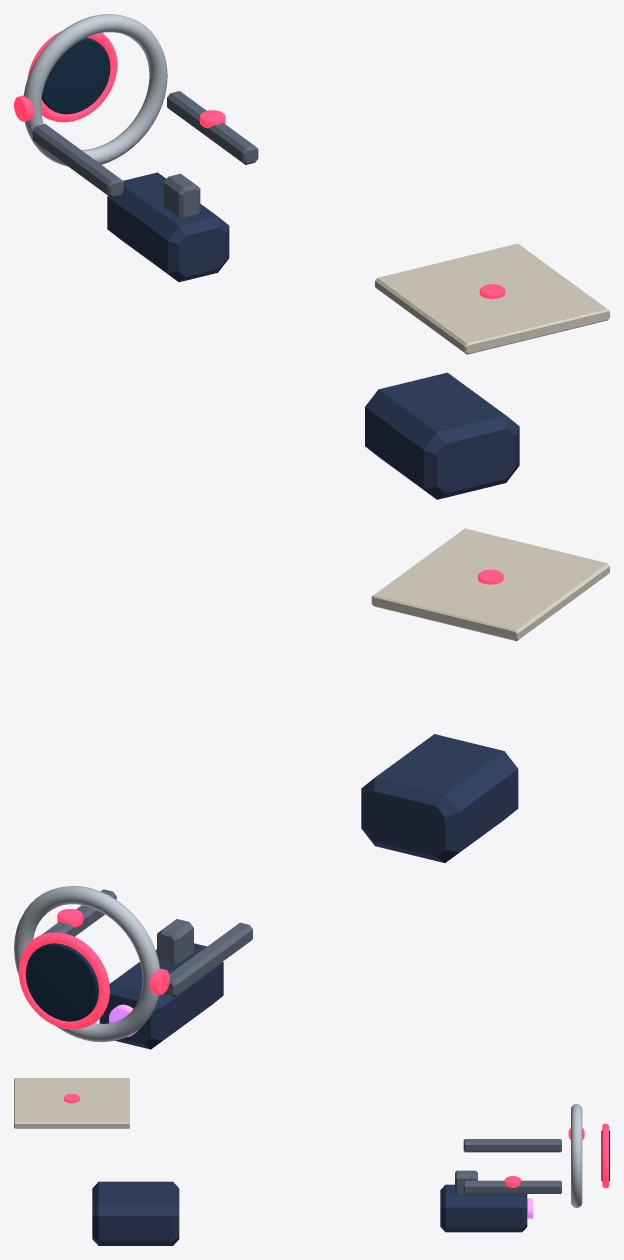
The model's file is tower_filament_peak_s7.glb.
3 views of the same model, one above another, from view 1: azimuth 30°, elevation 25°; view 2: azimuth 150°, elevation 25°; view 3: azimuth 270°, elevation 25° (orthographic). The views are drawn at different scales.
Visible parts, largest first — view 1: filament_dielectric, filament_coupler, filament_shred_emitter, filament_aperture_ring, filament_lens_b, filament_lens_brace_r, filament_lens_brace_l, filament_lens_b_ring, filament_shred_mount; view 2: filament_dielectric, filament_coupler, filament_aperture_ring, filament_shred_emitter, filament_lens_b, filament_lens_b_ring, filament_lens_brace_r, filament_shred_mount, filament_lens_brace_l; view 3: filament_dielectric, filament_coupler, filament_shred_emitter, filament_lens_brace_r, filament_lens_brace_l, filament_aperture_ring, filament_lens_b_ring, filament_shred_mount.
Boxes of the visible parts, x1,y1,x2,y2 form: filament_dielectric: (375,243,609,354); filament_coupler: (365,372,519,499); filament_shred_emitter: (107,172,229,282); filament_aperture_ring: (23,14,167,166); filament_lens_b: (41,37,110,114); filament_lens_brace_r: (32,124,123,197); filament_lens_brace_l: (167,91,258,164); filament_lens_b_ring: (27,31,117,122); filament_shred_mount: (163,173,200,217); filament_dielectric: (371,528,609,641); filament_coupler: (361,734,518,862); filament_aperture_ring: (14,886,159,1042); filament_shred_emitter: (99,943,223,1049); filament_lens_b: (25,943,98,1021); filament_lens_b_ring: (18,932,109,1029); filament_lens_brace_r: (163,922,252,997); filament_shred_mount: (157,919,193,963); filament_lens_brace_l: (41,889,116,936); filament_dielectric: (14,1078,129,1128); filament_coupler: (92,1181,179,1245); filament_shred_emitter: (440,1184,527,1232); filament_lens_brace_r: (463,1139,561,1152); filament_lens_brace_l: (463,1180,561,1193); filament_aperture_ring: (571,1104,582,1207); filament_lens_b_ring: (602,1123,608,1188); filament_shred_mount: (455,1170,477,1193).
Bounding box in the file's own units: 0.389 × 0.5282 × 2.06.
